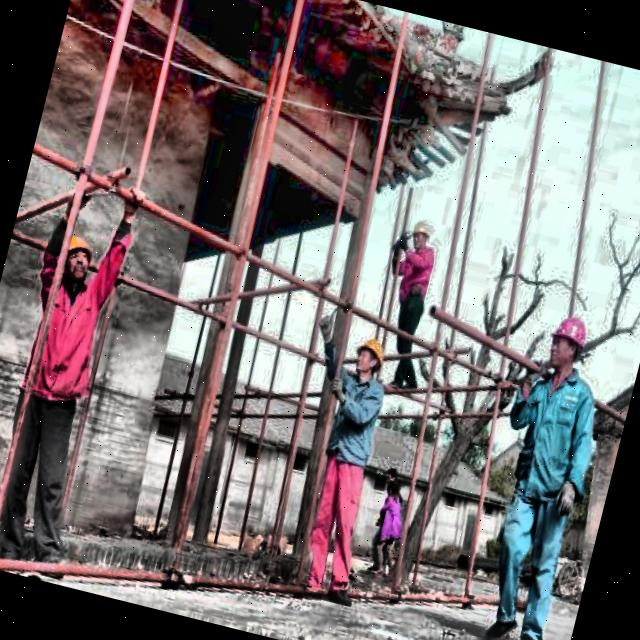helmet: (541, 306, 597, 378), (52, 228, 98, 294), (350, 334, 390, 386), (405, 216, 436, 256)
